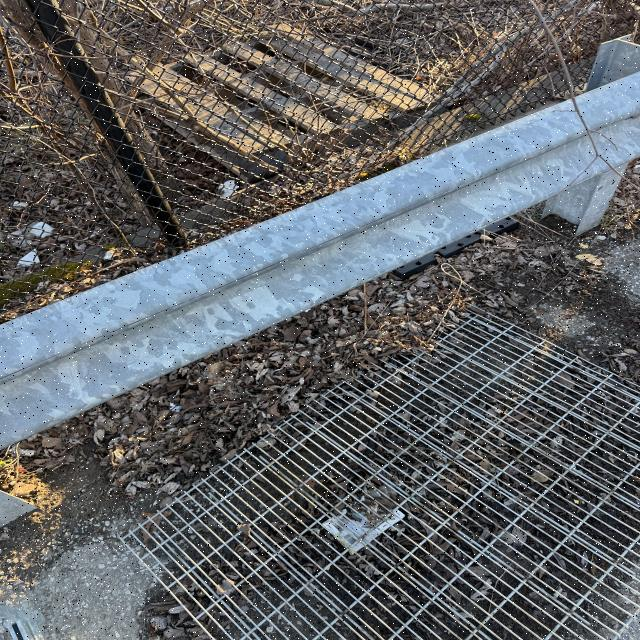Guard rail: (28, 68, 640, 404)
